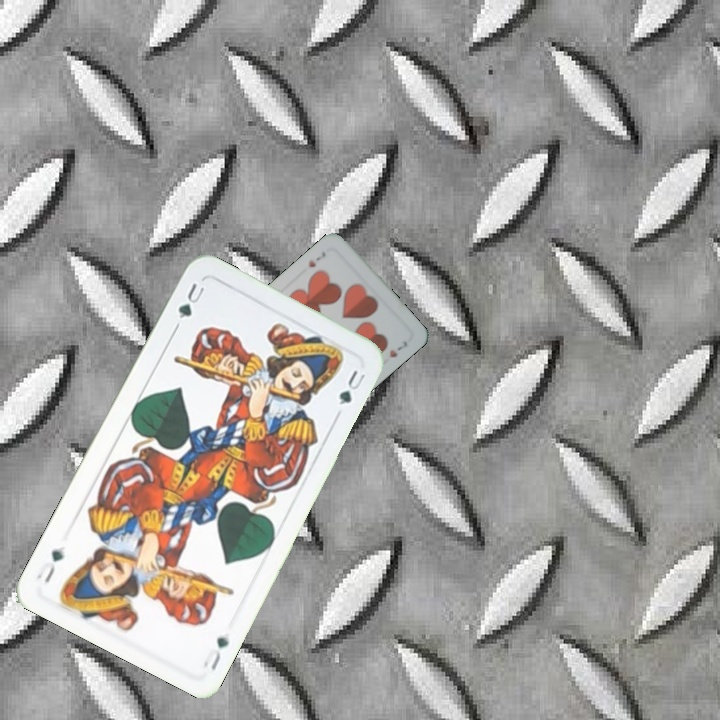GU: (174, 279, 207, 322), (199, 632, 232, 674)
H7: (304, 248, 328, 270)
